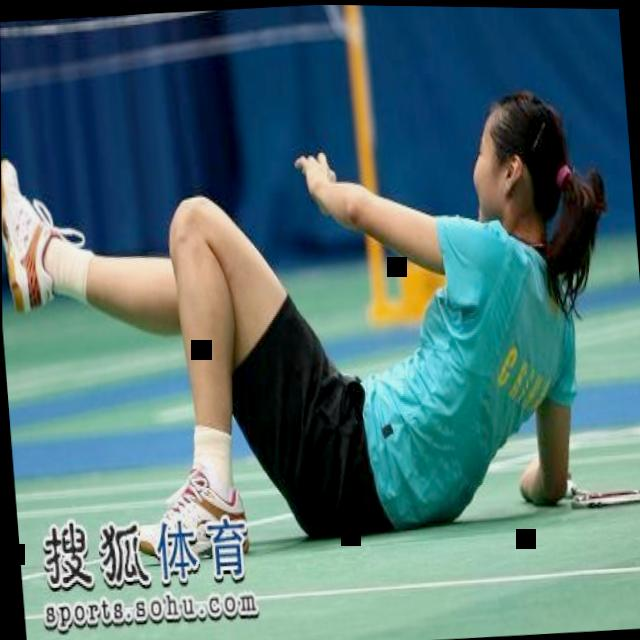Fall-Detected: (0, 31, 640, 609)
